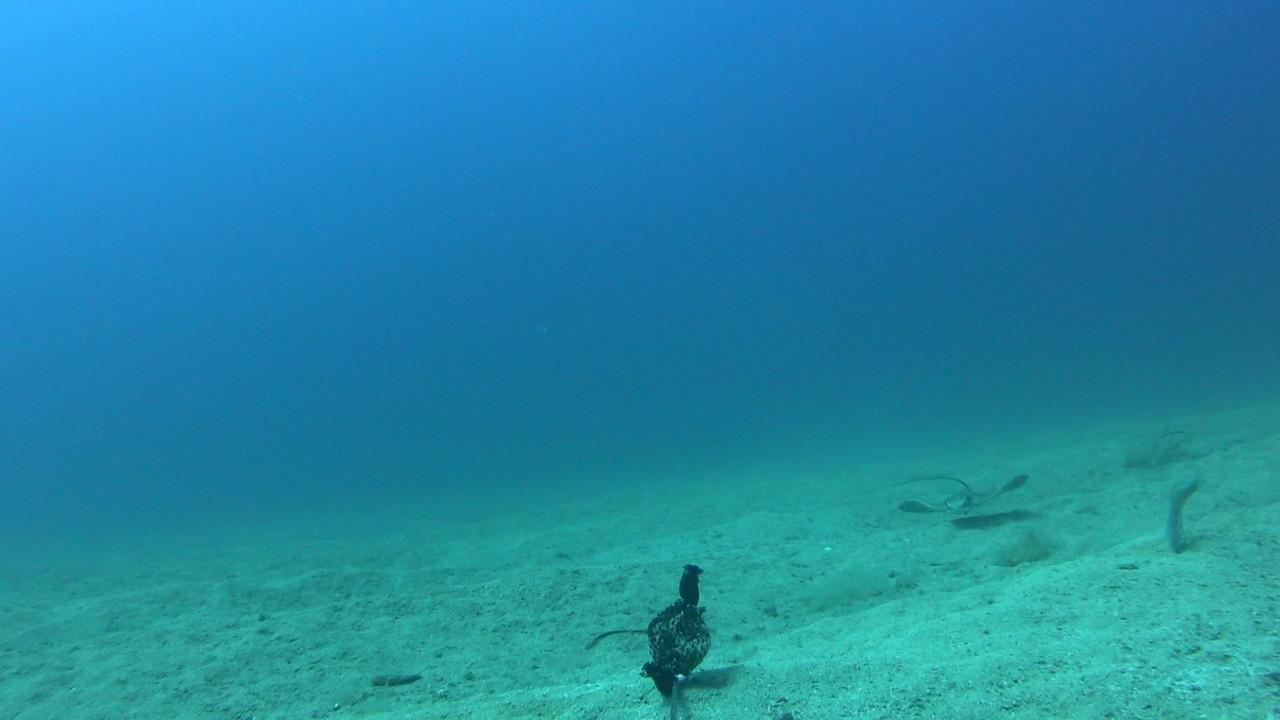myliobatis: (894, 445, 1049, 536)
